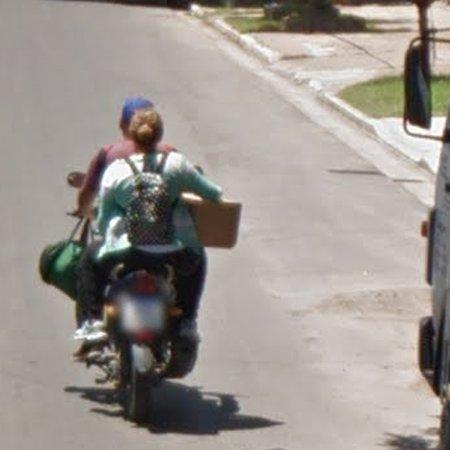motorcycles: (109, 270, 174, 343)
